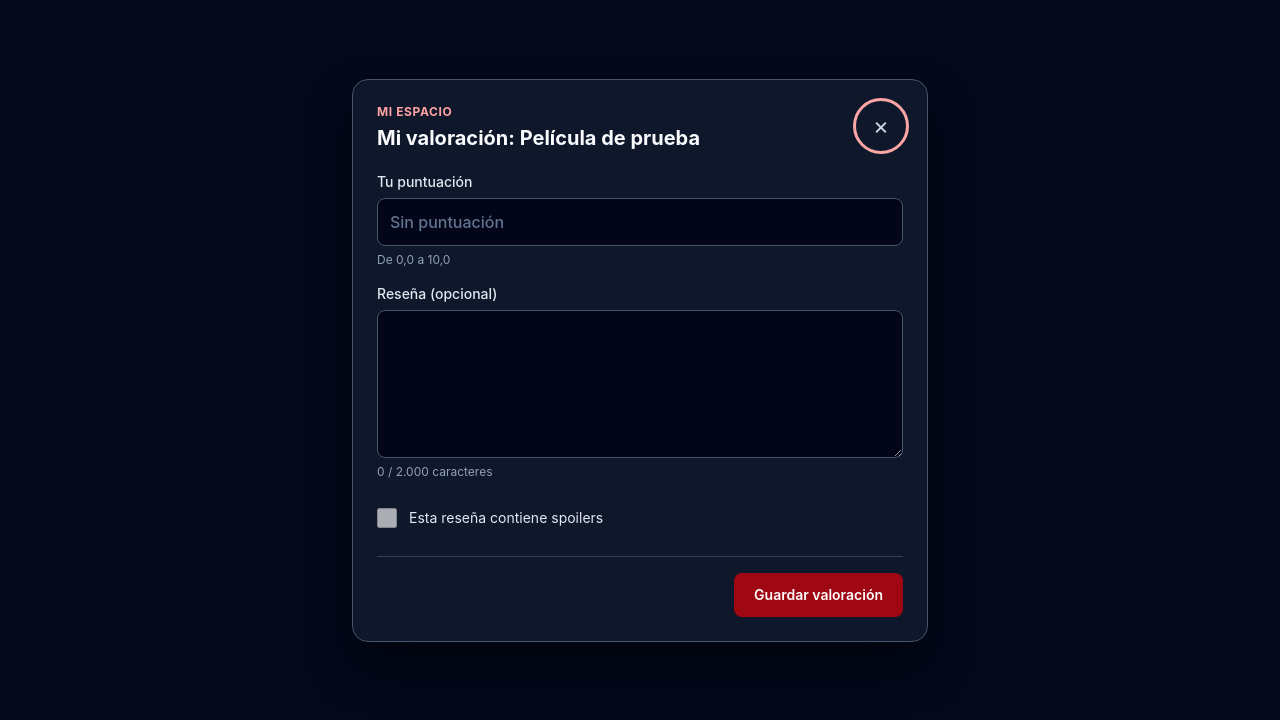
RatingDialog › rejects empty records and invalid decimal scores without sending a request
Click the button "Guardar valoración": point(819, 594) [734,572,903,616]
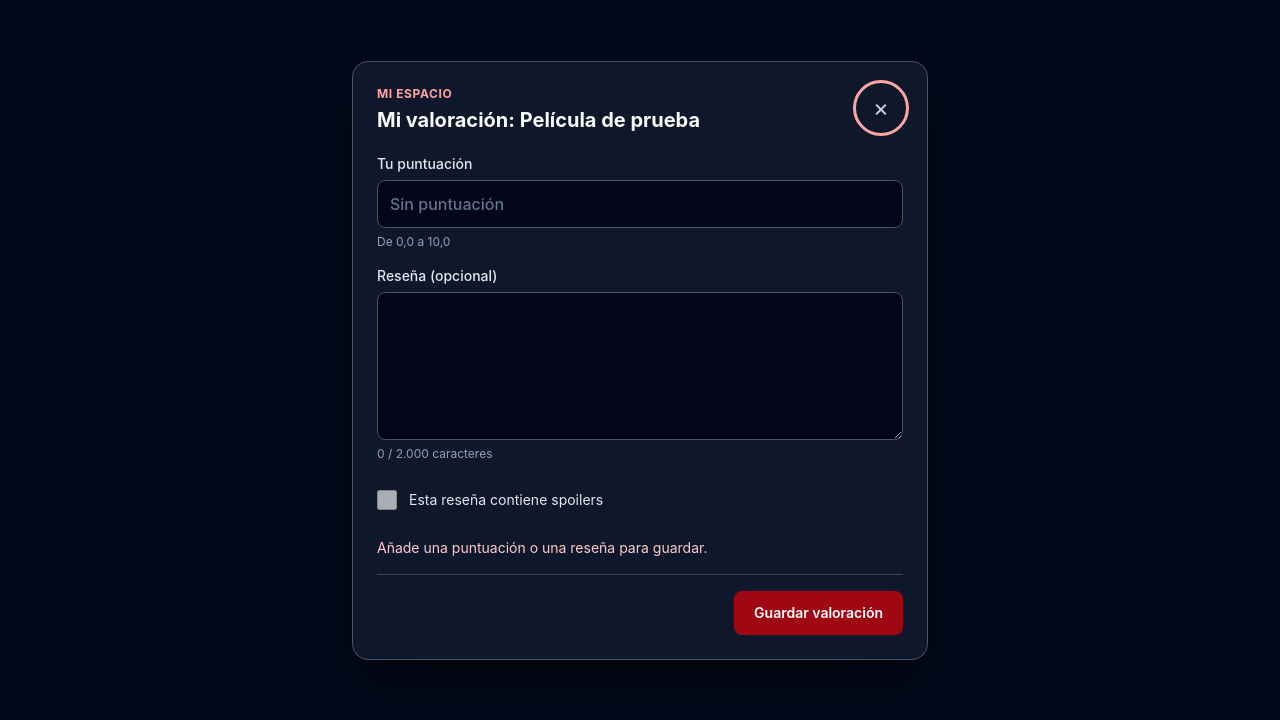
Expected: the message reads "Añade una puntuación o una reseña para guardar.", [377,538,707,556]
In the number field labelled "Tu puntuación De 0,0 a 10,0": point(640, 204) [377,180,903,228], type "7.85"
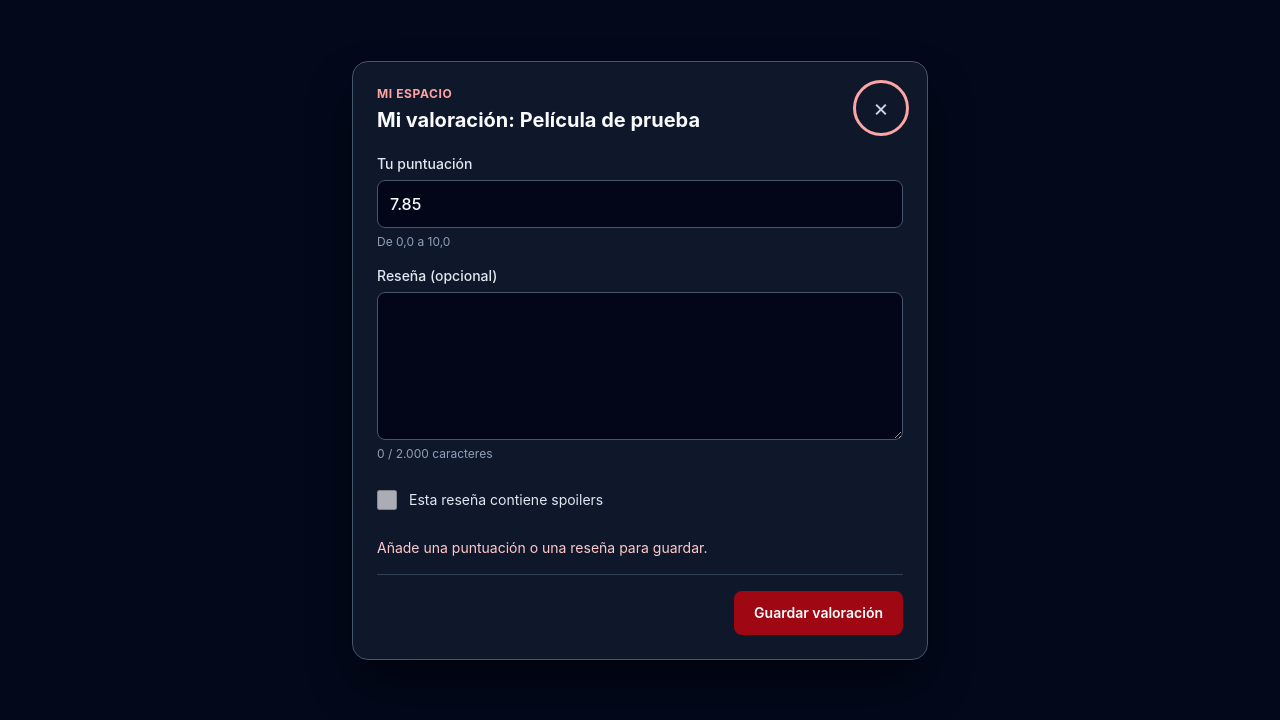
Click the button "Guardar valoración": point(819, 612) [734,590,903,634]
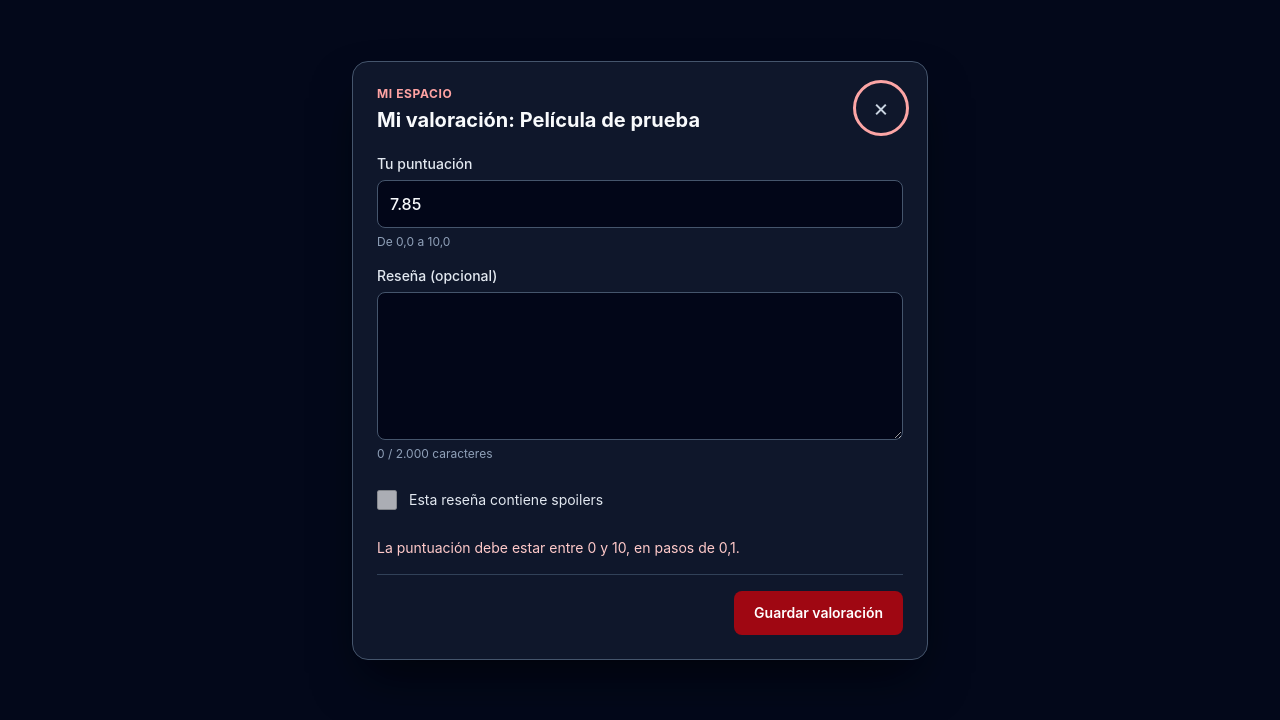
Expected: the message reads "La puntuación debe estar entre 0 y 10, en pasos de 0,1.", [377,538,740,556]
